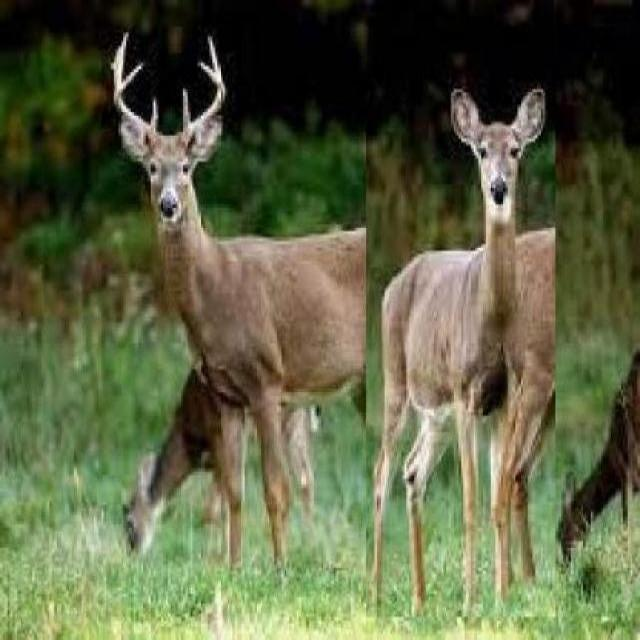deer: (366, 71, 557, 618)
